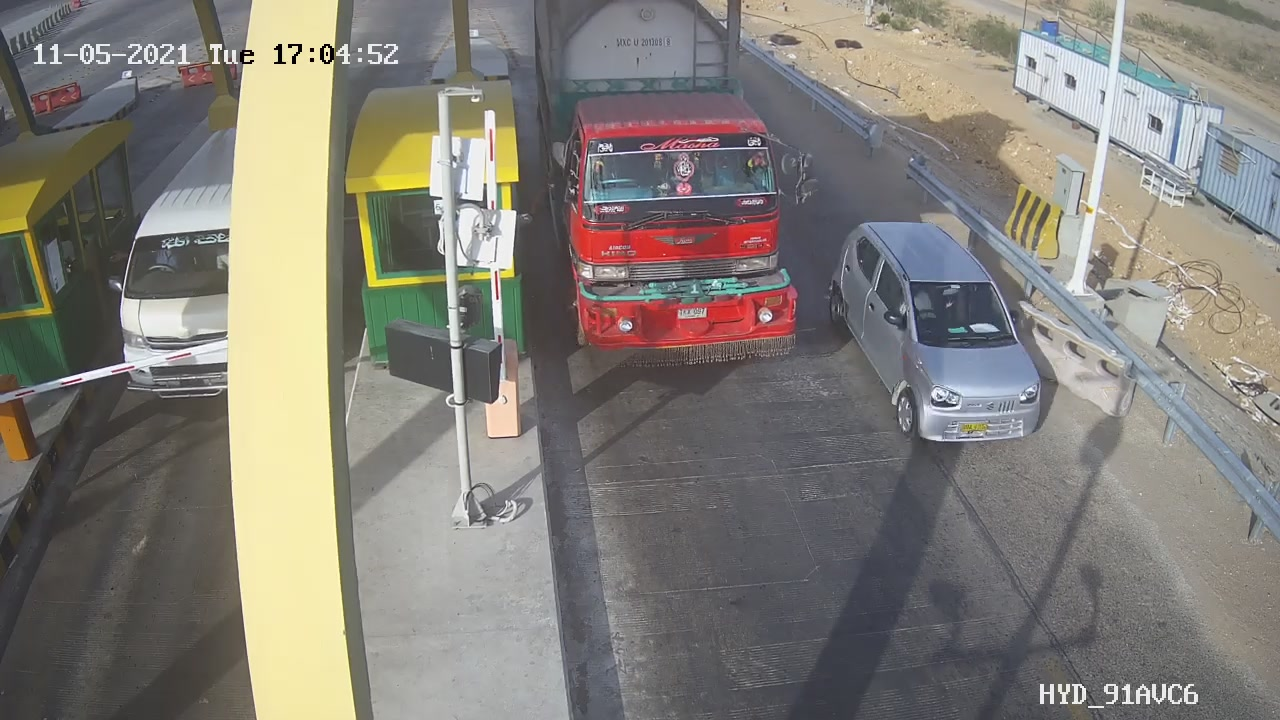F1: (817, 207, 1057, 472)
F6: (524, 1, 798, 369)
